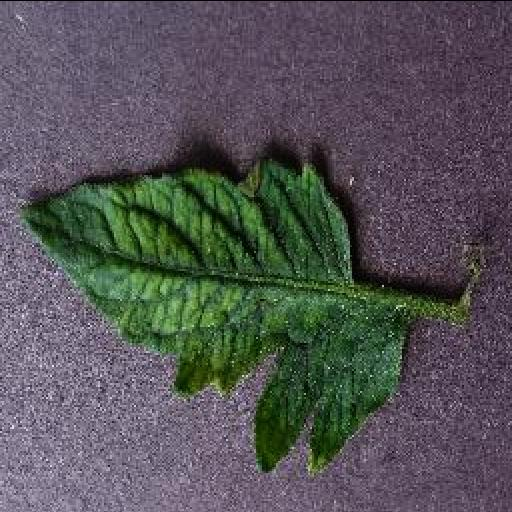Mosaic Virus: (17, 154, 407, 472)
